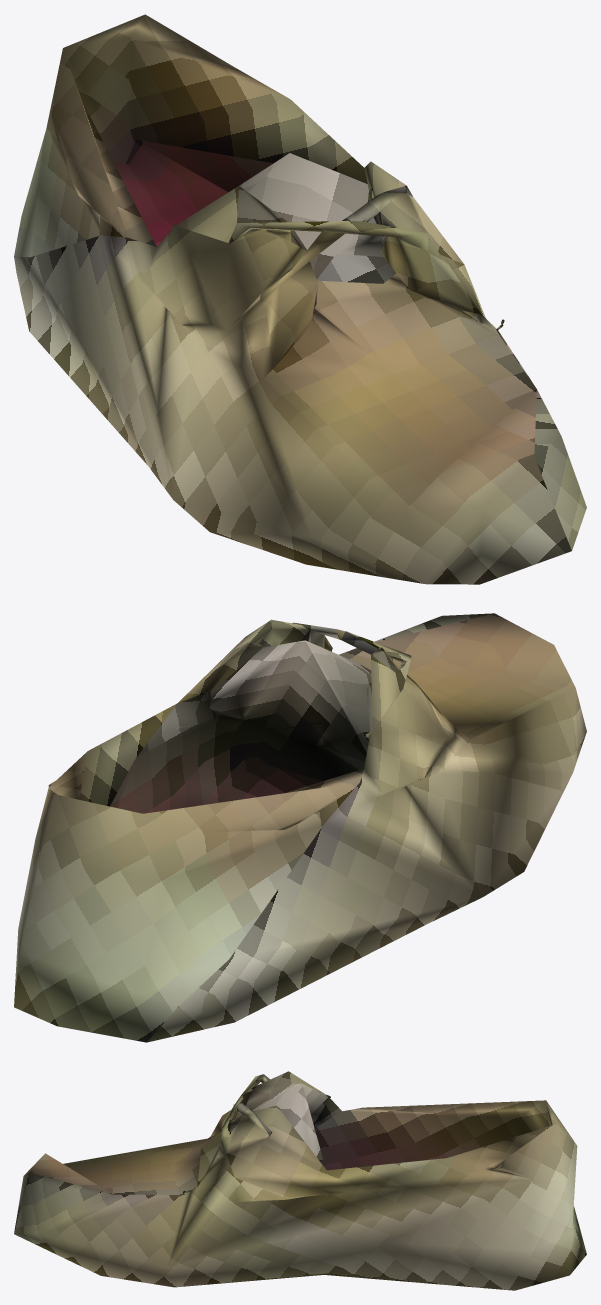
The model's file is Womens_Bluefish_2Eye_Boat_Shoe_in_Linen_Natural_Sparkle_Suede_w34KNQ41csH-low.glb.
The picture shows the model from 3 angles, top to bottom: view 1: azimuth 30°, elevation 25°; view 2: azimuth 150°, elevation 25°; view 3: azimuth 270°, elevation 25°; orthographic projection. The views are drawn at different scales.
Parts seen in each view (by area): view 1: Womens_Bluefish_2Eye_Boat_Shoe_in_Linen_Natural_Sparkle_Sued; view 2: Womens_Bluefish_2Eye_Boat_Shoe_in_Linen_Natural_Sparkle_Sued; view 3: Womens_Bluefish_2Eye_Boat_Shoe_in_Linen_Natural_Sparkle_Sued.
Part boxes in pixels (box(x1,y1,x2,y2)): Womens_Bluefish_2Eye_Boat_Shoe_in_Linen_Natural_Sparkle_Sued: box(14, 14, 586, 584); Womens_Bluefish_2Eye_Boat_Shoe_in_Linen_Natural_Sparkle_Sued: box(14, 613, 586, 1042); Womens_Bluefish_2Eye_Boat_Shoe_in_Linen_Natural_Sparkle_Sued: box(14, 1071, 586, 1290).
Bounding box in the file's own units: 0.0899 × 0.0823 × 0.2464.
Materials: 1 (1 with a texture image).
